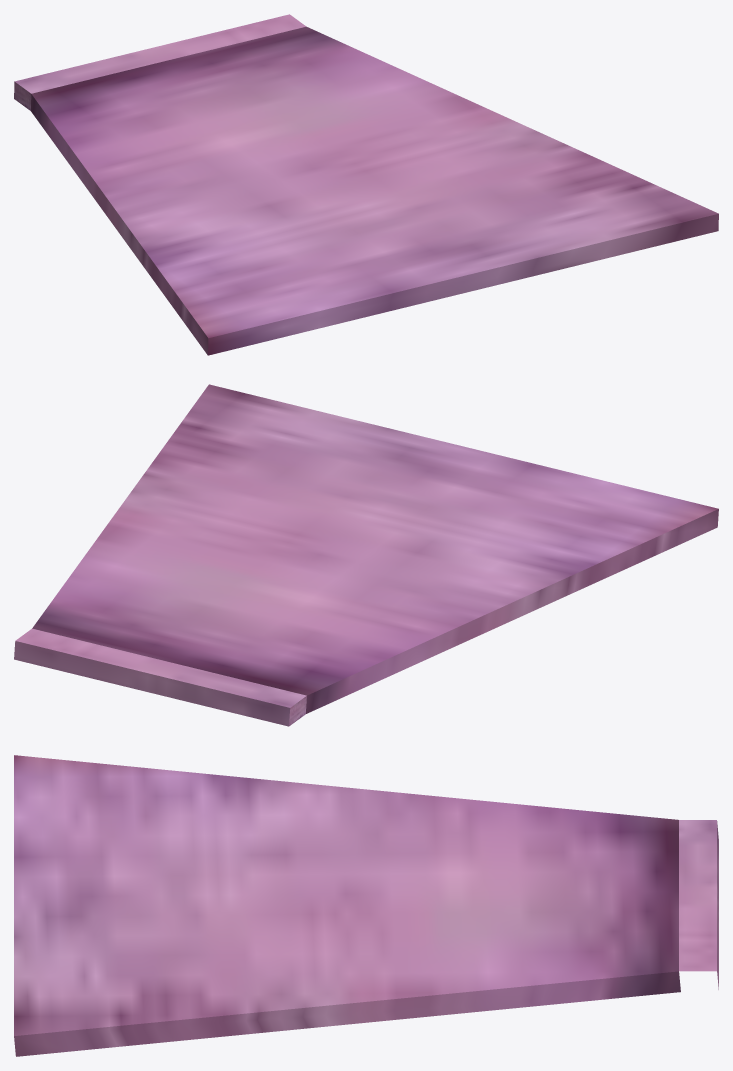
Rendered from MAGICZNA_BLACHA.glb.
3 views of the same model, one above another, from view 1: azimuth 30°, elevation 25°; view 2: azimuth 150°, elevation 25°; view 3: azimuth 270°, elevation 25° (orthographic). The views are drawn at different scales.
Parts seen in each view (by area): view 1: MAGICZNA_BLACHA; view 2: MAGICZNA_BLACHA; view 3: MAGICZNA_BLACHA.
Boxes of the visible parts, x1=… form: MAGICZNA_BLACHA: x1=14, y1=14, x2=718, y2=355; MAGICZNA_BLACHA: x1=14, y1=384, x2=718, y2=726; MAGICZNA_BLACHA: x1=14, y1=755, x2=718, y2=1056.
Size of the model in its own units: 0.2454 by 0.00833 by 0.26.
1 material, 1 textured.
